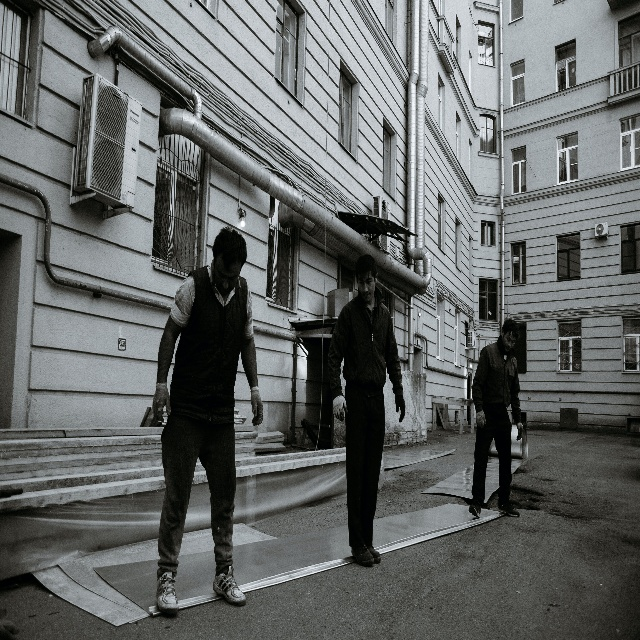Guantes: (151, 381, 172, 423), (249, 385, 263, 425), (332, 394, 348, 422), (394, 394, 406, 422), (476, 410, 486, 427), (515, 422, 523, 441)
